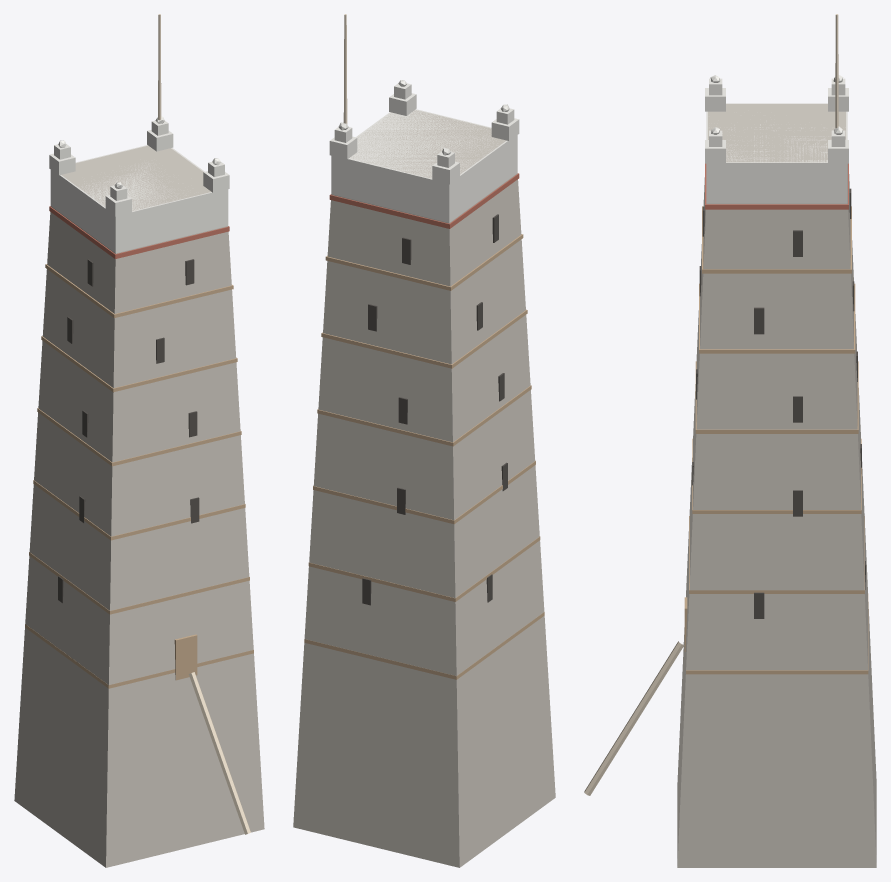
3 views of the same model, side by side, from view 1: azimuth 30°, elevation 25°; view 2: azimuth 150°, elevation 25°; view 3: azimuth 270°, elevation 25° (orthographic). The views are drawn at different scales.
Parts seen in each view (by area): view 1: WB_diaolou; view 2: WB_diaolou; view 3: WB_diaolou.
Part boxes in pixels (box(x1,y1,x2,y2)): WB_diaolou: box(14, 14, 264, 867); WB_diaolou: box(293, 14, 555, 867); WB_diaolou: box(584, 14, 876, 867).
Bounding box in the file's own units: 6.65 × 30.8 × 9.76.
